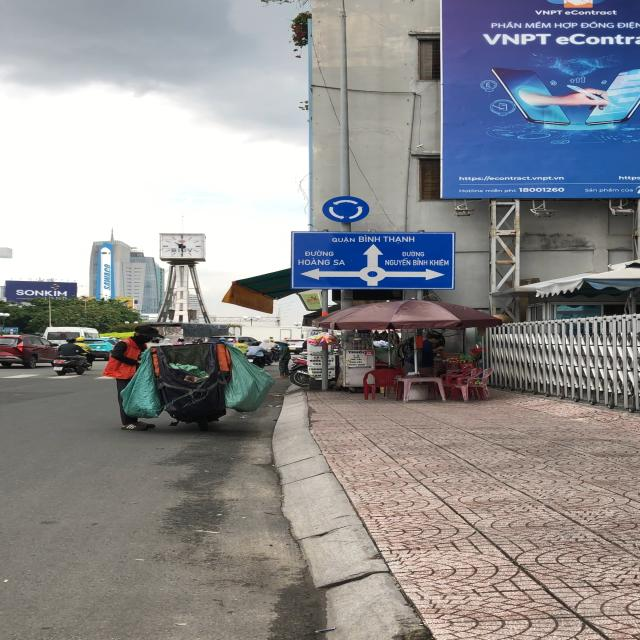Bien bao noi giao nhau chay theo vong xuyen: (317, 195, 375, 224)
